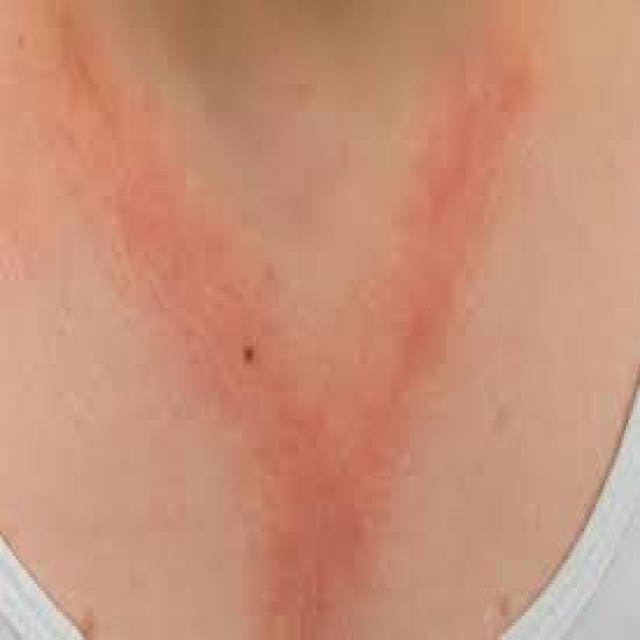Acanthosis Nigricans: (7, 1, 604, 640)
